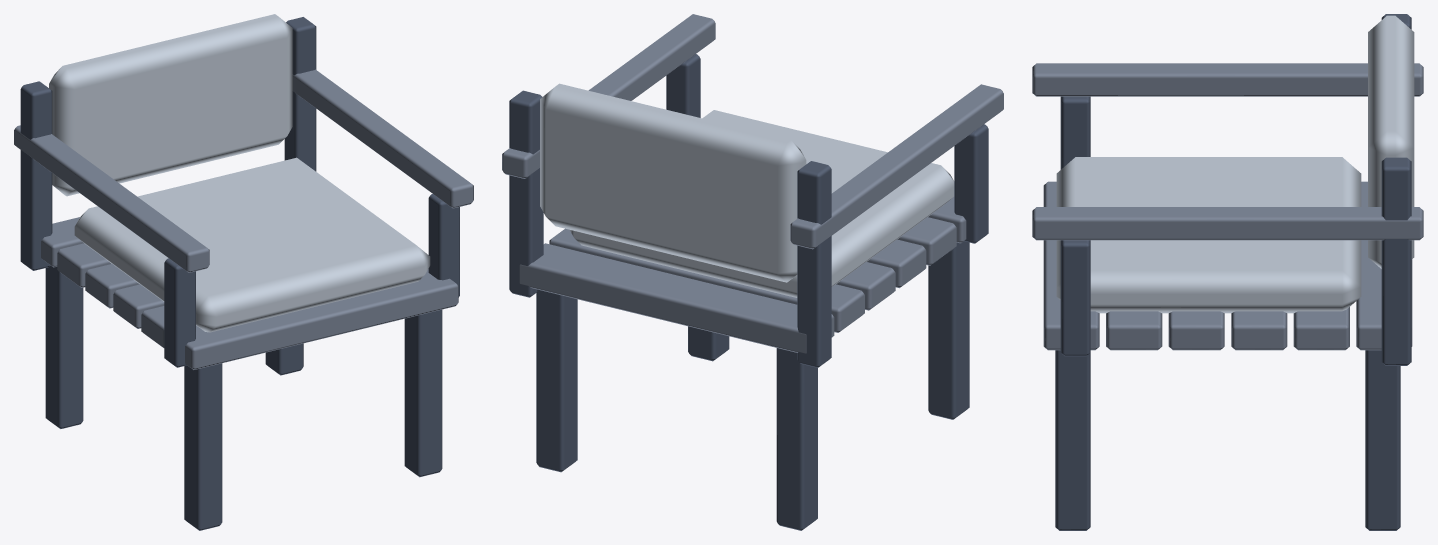
The model's file is garden-chair-lite.glb.
3 renders of one model, left to right at view 1: azimuth 30°, elevation 25°; view 2: azimuth 150°, elevation 25°; view 3: azimuth 270°, elevation 25°, orthographic. The views are drawn at different scales.
Parts seen in each view (by area): view 1: garden-chair; view 2: garden-chair; view 3: garden-chair.
Part boxes in pixels (x1,y1,x2,y2): garden-chair: (14, 14, 473, 530); garden-chair: (502, 14, 1003, 530); garden-chair: (1032, 14, 1423, 530).
Size of the model in its own units: 0.72 by 0.84 by 0.76.
